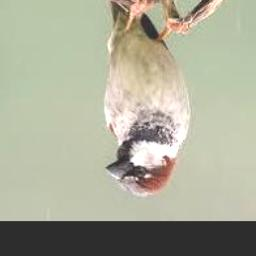Sparrow: (102, 0, 192, 198)
